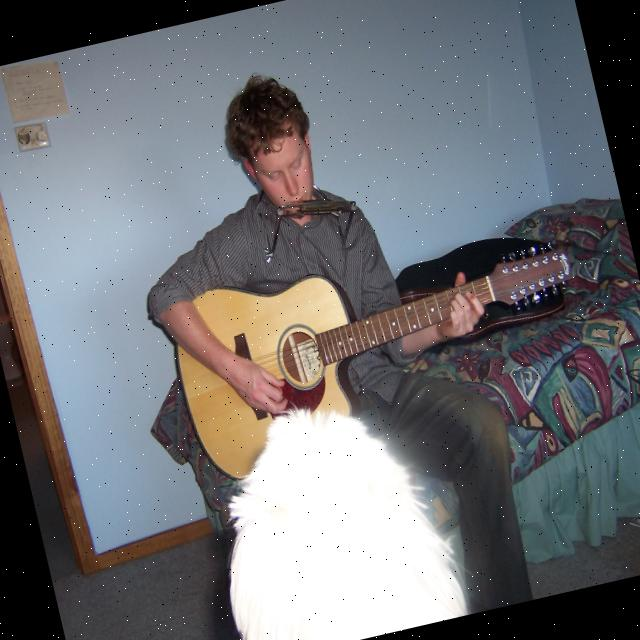guitar: (163, 209, 602, 488)
